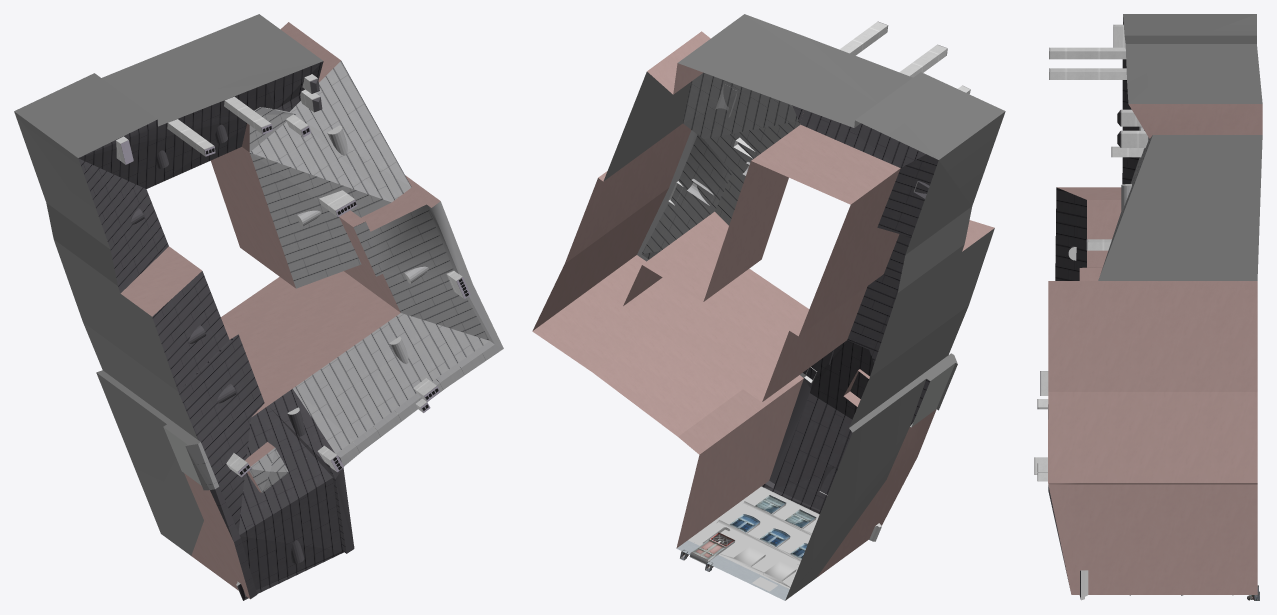
Rendered from Dunkri_4.obj.
The picture shows the model from 3 angles, left to right: view 1: azimuth 30°, elevation 25°; view 2: azimuth 150°, elevation 25°; view 3: azimuth 270°, elevation 25°; orthographic projection. The views are drawn at different scales.
Parts seen in each view (by area): view 1: Dunkri_4; view 2: Dunkri_4; view 3: Dunkri_4.
Part boxes in pixels (left/top/right/bottom): Dunkri_4: left=14, top=14, right=503, bottom=600; Dunkri_4: left=532, top=14, right=1005, bottom=600; Dunkri_4: left=1034, top=14, right=1262, bottom=600.
Bounding box in the file's own units: 33.87 × 41.35 × 16.46.
